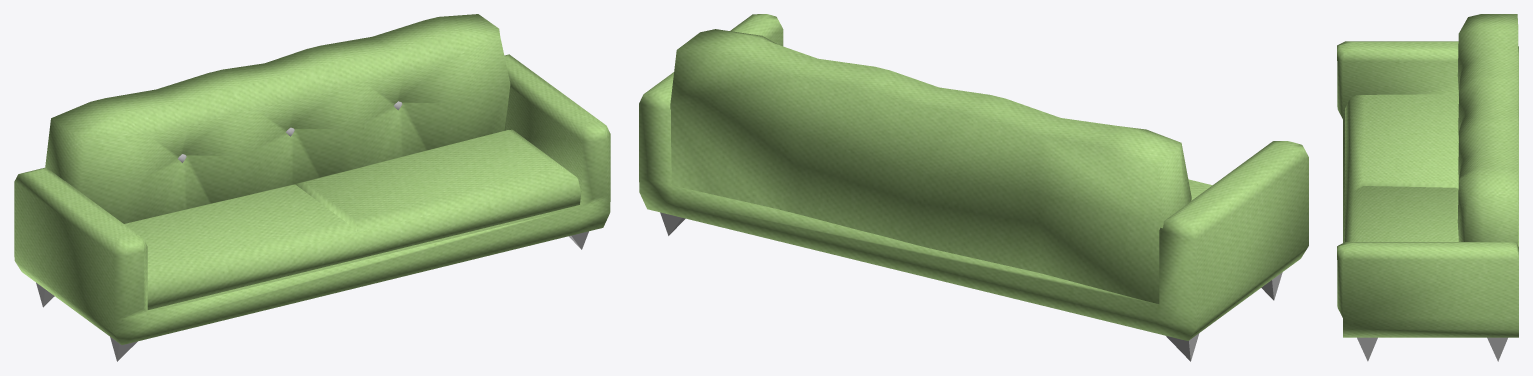
File: Sofa_G_3.FBX
3 renders of one model, left to right at view 1: azimuth 30°, elevation 25°; view 2: azimuth 150°, elevation 25°; view 3: azimuth 270°, elevation 25°, orthographic. The views are drawn at different scales.
Visible parts, largest first — view 1: Sofa; view 2: Sofa; view 3: Sofa.
Boxes of the visible parts, x1,y1,x2,y2 form: Sofa: (14,14,610,361); Sofa: (639,14,1308,361); Sofa: (1337,14,1518,361).
Size of the model in its own units: 468 by 168 by 169.
